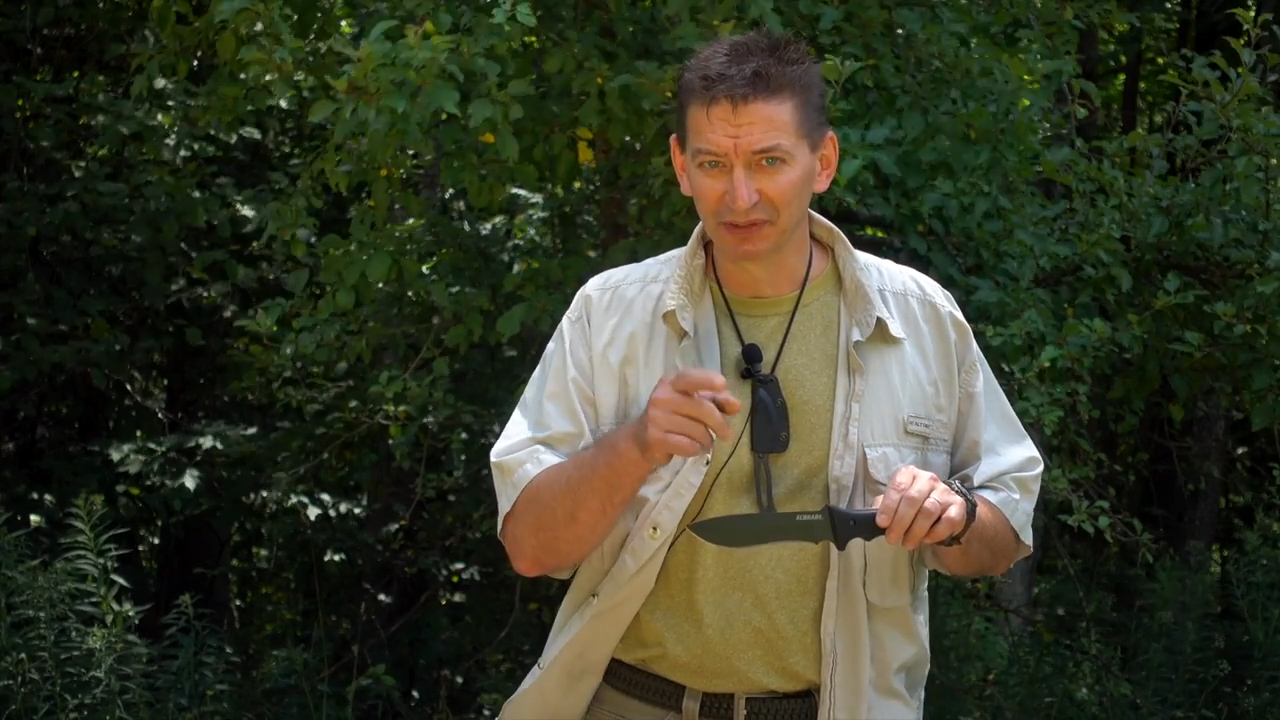knife: (677, 461, 957, 561)
